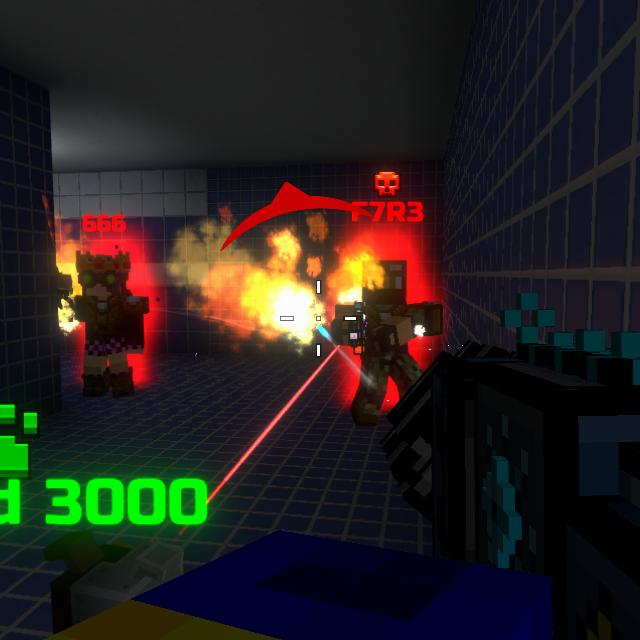Enemy: (328, 259, 442, 427), (57, 254, 148, 398)
